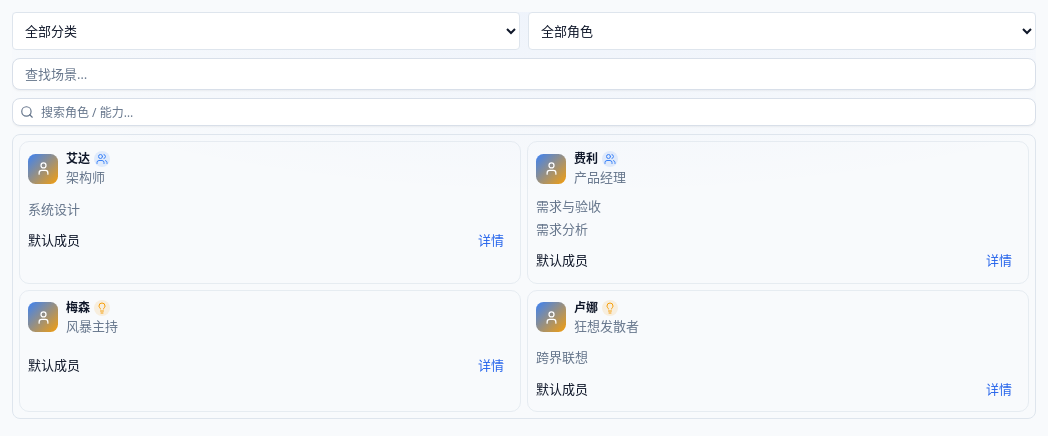
Scenario: AgentPicker（M16） › 场景选择：切到头脑风暴只显示该场景角色，切回全部恢复
This screenshot has width=1048, height=436.
Expected: the button "费利 产品经理 需求与验收 需求分析 默认成员 详情" is shown, 527,141 -> 1029,284
Expected: the button "卢娜 狂想发散者 跨界联想 默认成员 详情" is shown, 527,290 -> 1029,412
Select "头脑风暴" in the dropdown named "选择角色场景" at (782,31), box 528,12 -> 1036,50
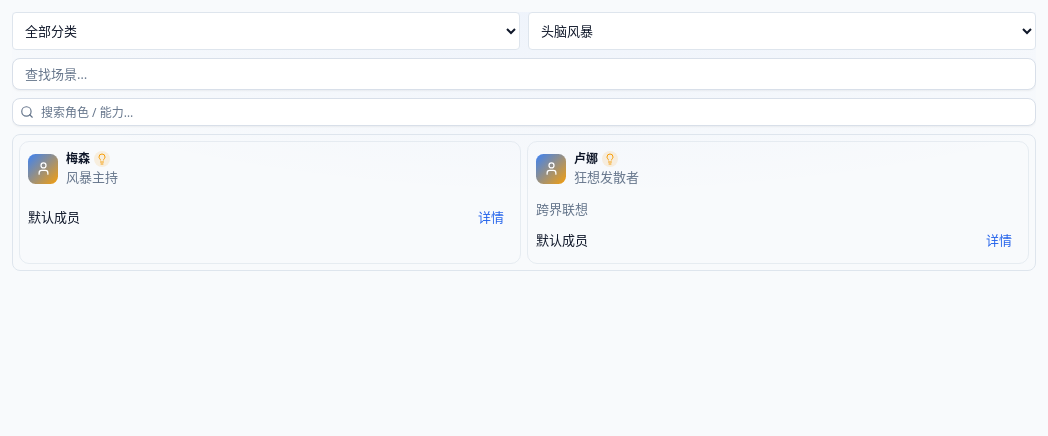
Expected: the button "卢娜 狂想发散者 跨界联想 默认成员 详情" is shown, 527,141 -> 1029,264
Expected: the button "费利" is gone
Select "全部角色" in the dropdown named "选择角色场景" at (782,31), box 528,12 -> 1036,50
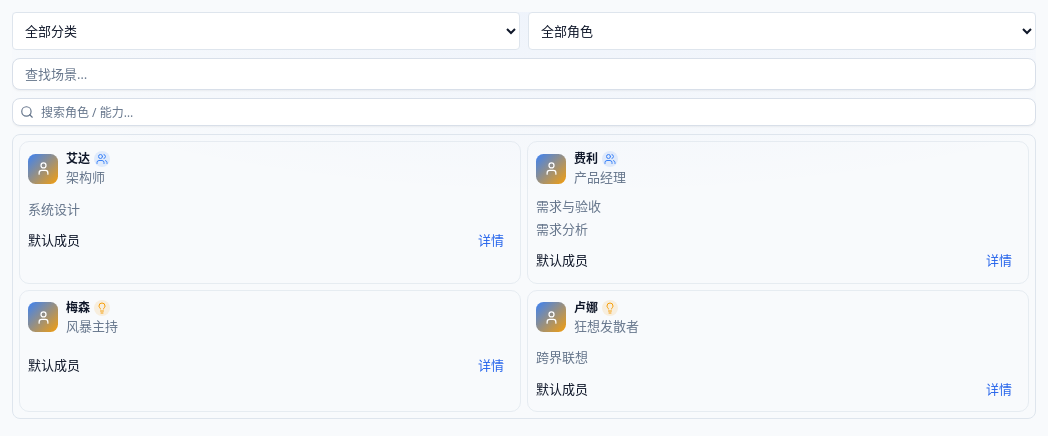
Expected: the button "费利 产品经理 需求与验收 需求分析 默认成员 详情" is shown, 527,141 -> 1029,284
